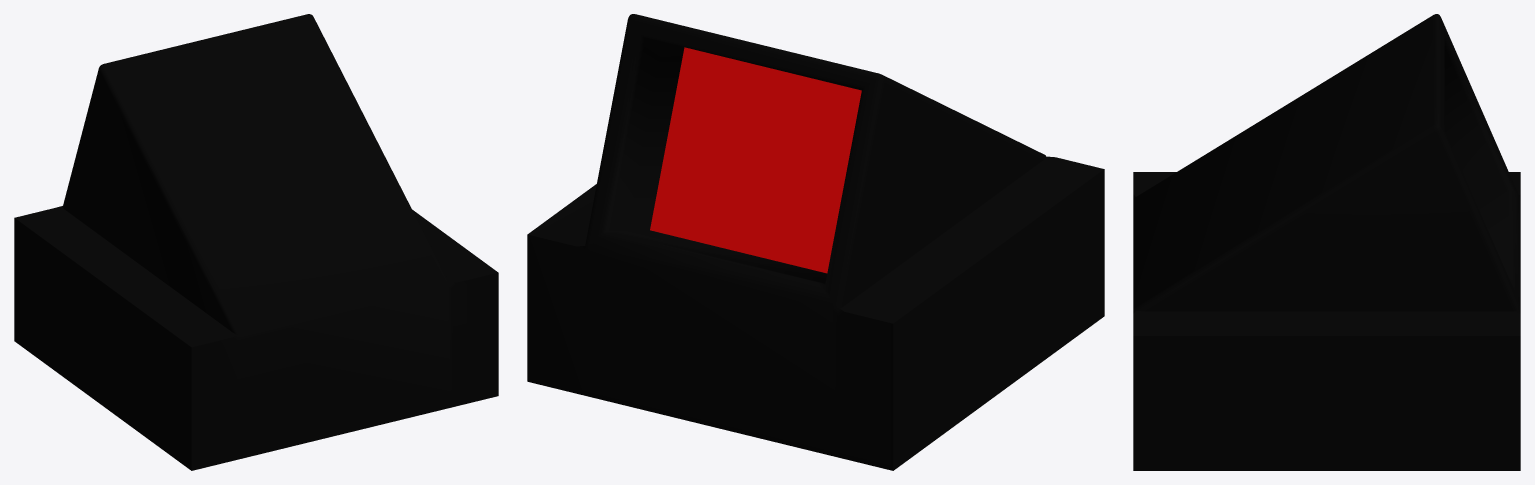
File: SM_LedPont.fbx
3 renders of one model, left to right at view 1: azimuth 30°, elevation 25°; view 2: azimuth 150°, elevation 25°; view 3: azimuth 270°, elevation 25°, orthographic. The views are drawn at different scales.
Parts seen in each view (by area): view 1: SM_LedTube; view 2: SM_LedTube; view 3: SM_LedTube.
Part boxes in pixels (box(x1,y1,x2,y2)): SM_LedTube: box(14, 14, 498, 470); SM_LedTube: box(527, 14, 1104, 470); SM_LedTube: box(1133, 14, 1520, 470).
Bounding box in the file's own units: 24.16 × 22.01 × 24.16.
